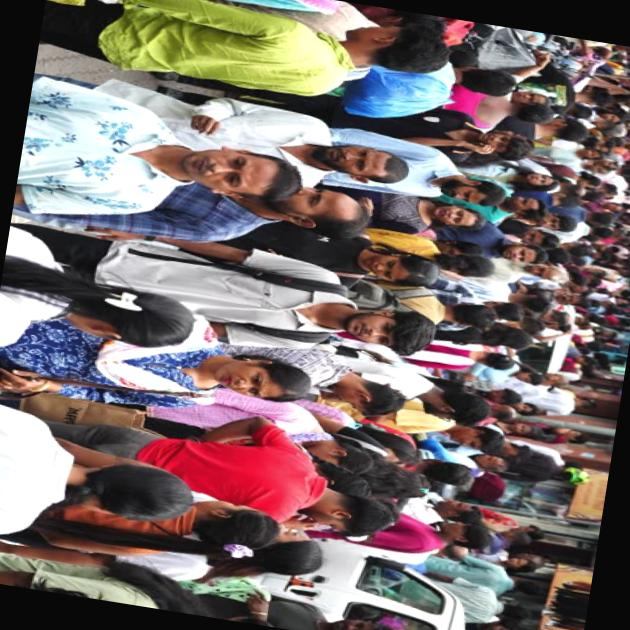there is a person: (0, 405, 190, 536), (229, 0, 442, 102), (108, 103, 298, 214), (211, 434, 388, 546), (154, 315, 300, 409), (313, 198, 458, 290), (298, 273, 448, 359), (296, 283, 449, 361), (301, 109, 408, 195), (388, 495, 502, 569), (314, 354, 410, 428), (437, 110, 532, 166), (414, 155, 498, 209), (472, 222, 546, 272)
